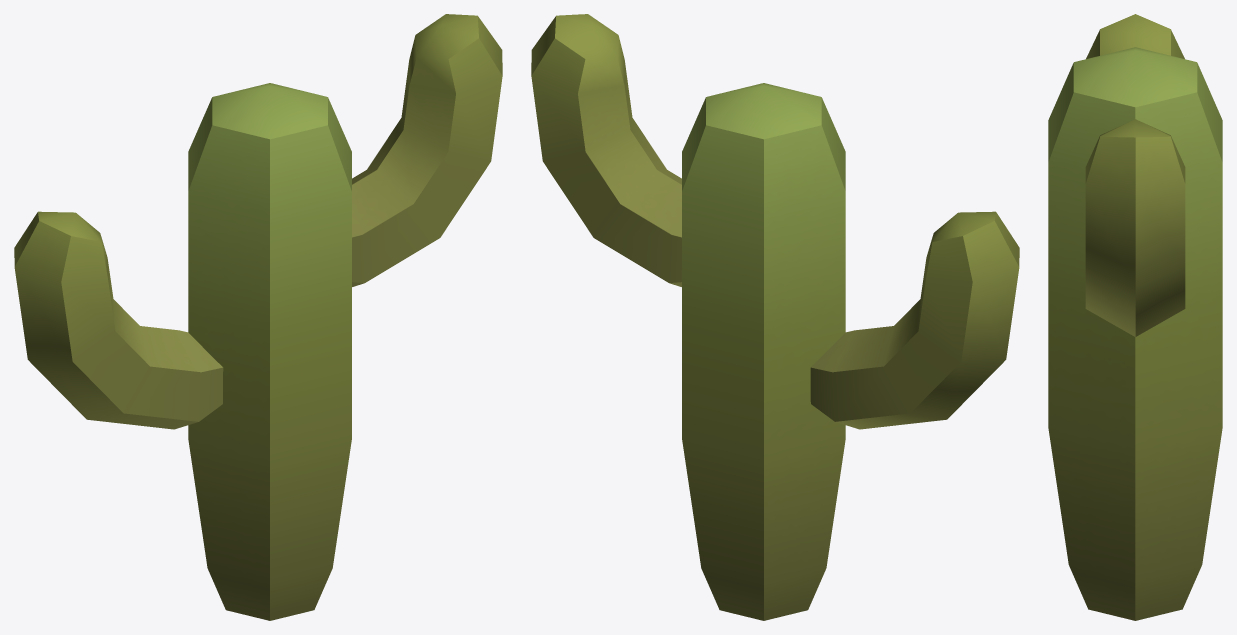
3 renders of one model, left to right at view 1: azimuth 30°, elevation 25°; view 2: azimuth 150°, elevation 25°; view 3: azimuth 270°, elevation 25°, orthographic. The views are drawn at different scales.
Parts seen in each view (by area): view 1: Capsule_2; view 2: Capsule_2; view 3: Capsule_2.
Part boxes in pixels (x1,y1,x2,y2): Capsule_2: (14,14,502,620); Capsule_2: (531,14,1019,620); Capsule_2: (1048,14,1222,620).
Bounding box in the file's own units: 38.07 × 41.18 × 11.06.
